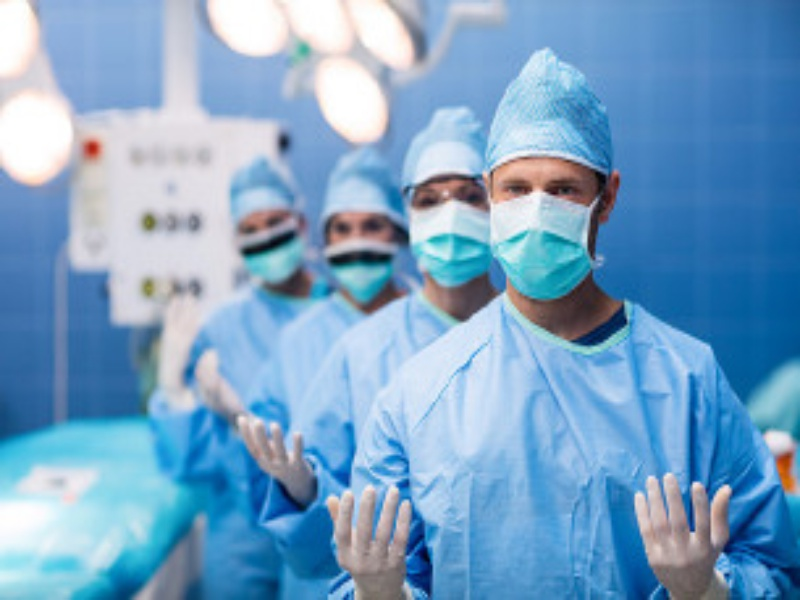mask: (478, 48, 621, 301), (413, 108, 493, 300), (323, 143, 408, 306), (233, 151, 315, 292)
